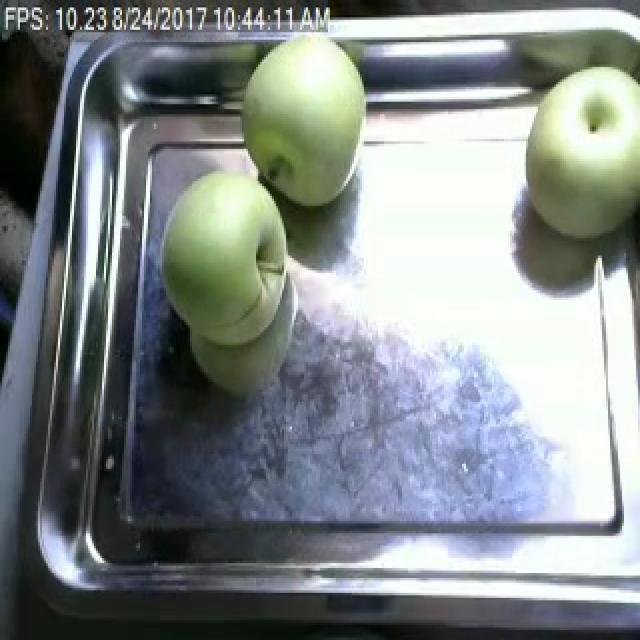50-_ripeness: (153, 176, 318, 357), (244, 36, 390, 190), (518, 80, 640, 250)
